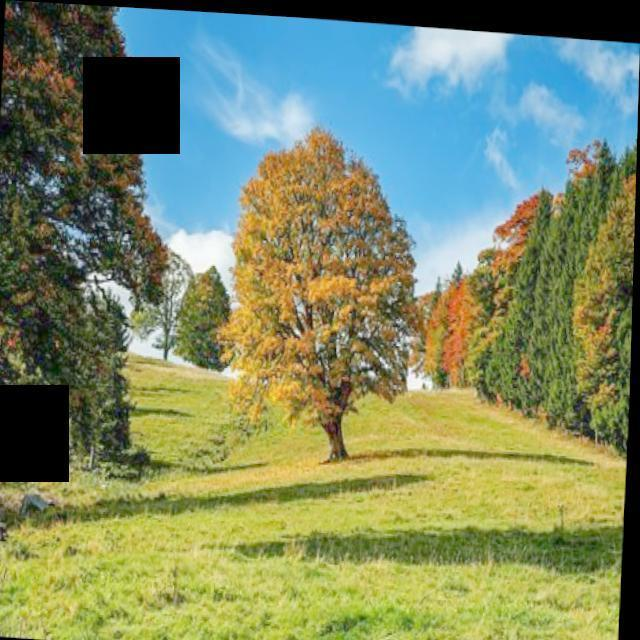tree: (0, 0, 202, 522), (221, 110, 426, 472), (126, 243, 200, 365), (172, 246, 239, 372), (410, 258, 450, 386)
